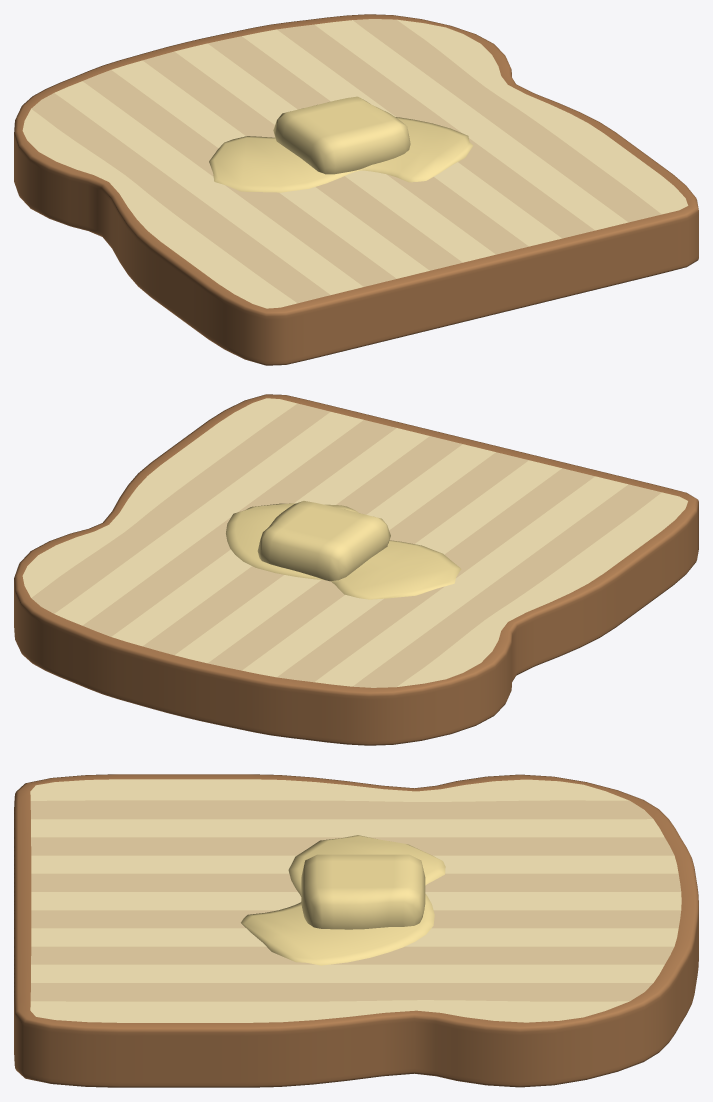
File: Toast_247.gltf
3 views of the same model, one above another, from view 1: azimuth 30°, elevation 25°; view 2: azimuth 150°, elevation 25°; view 3: azimuth 270°, elevation 25° (orthographic). The views are drawn at different scales.
Parts seen in each view (by area): view 1: node-0; view 2: node-0; view 3: node-0.
Boxes of the visible parts, x1,y1,x2,y2 form: node-0: (14,14,698,365); node-0: (14,394,698,745); node-0: (14,774,698,1087).
Size of the model in its own units: 52.21 by 8.82 by 58.95.
